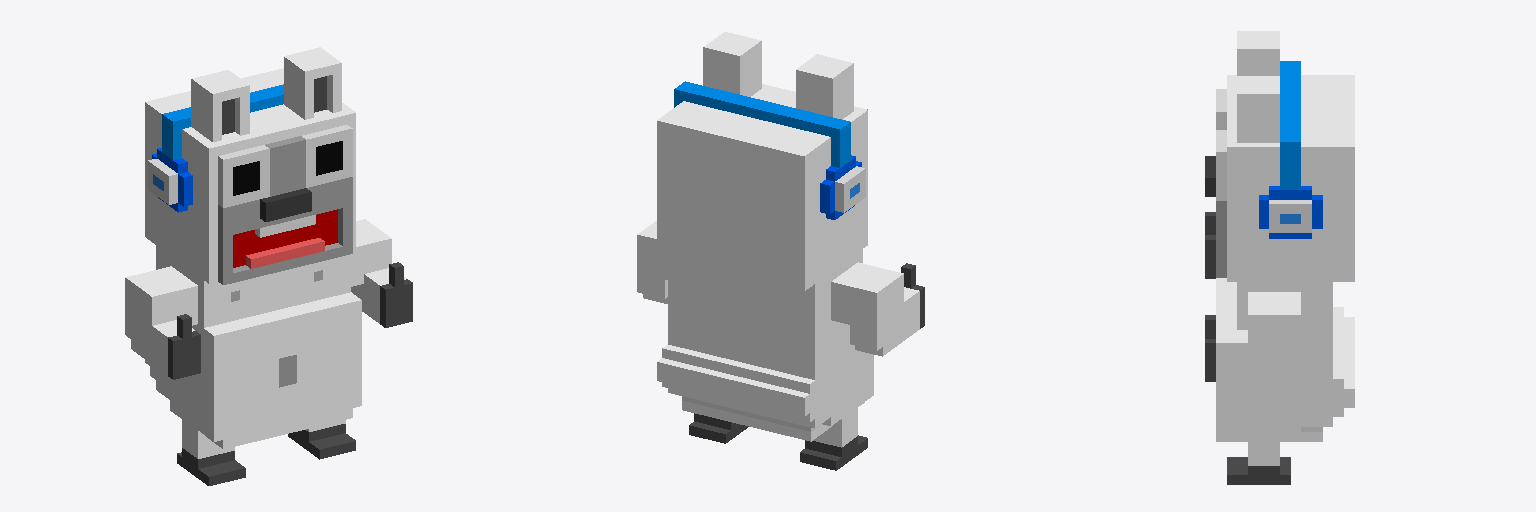
3 views of the same model, side by side, from view 1: azimuth 30°, elevation 25°; view 2: azimuth 150°, elevation 25°; view 3: azimuth 270°, elevation 25° (orthographic).
Parts seen in each view (by area): view 1: 빠큐토끼; view 2: 빠큐토끼; view 3: 빠큐토끼.
Boxes of the visible parts, x1=… form: 빠큐토끼: x1=125, y1=47, x2=412, y2=485; 빠큐토끼: x1=637, y1=32, x2=924, y2=470; 빠큐토끼: x1=1205, y1=31, x2=1354, y2=484.
Size of the model in its own units: 26 by 40 by 14.
Materials: 1 (1 with a texture image).